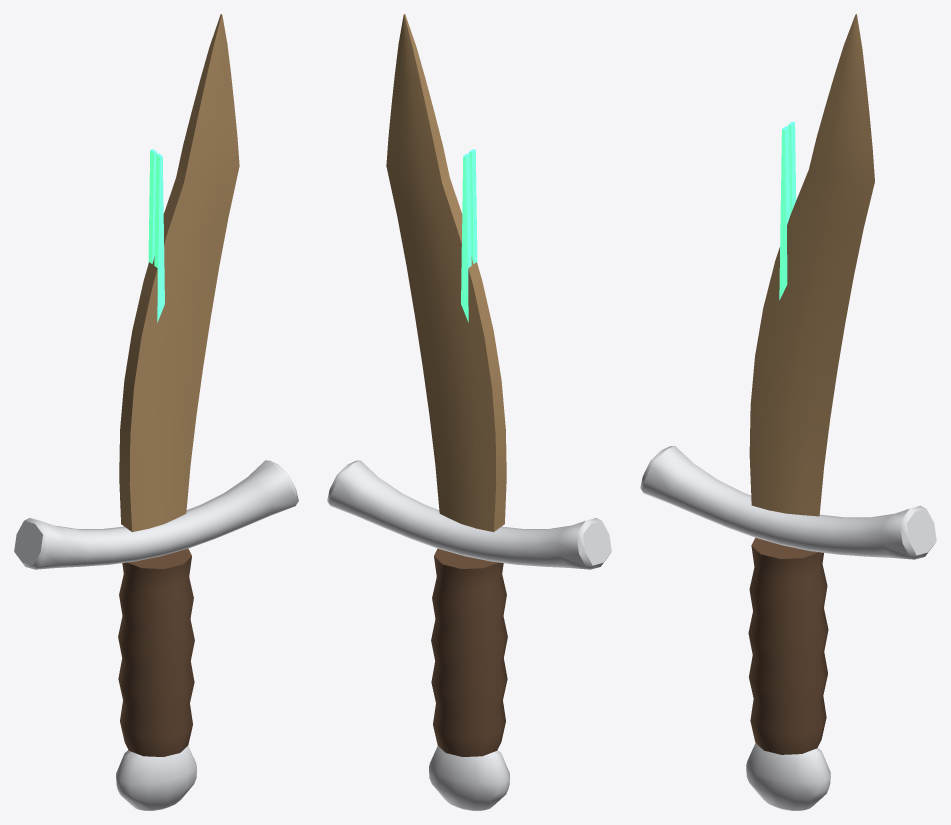
The model's file is depth_rootfang_skinner.glb.
The picture shows the model from 3 angles, left to right: view 1: azimuth 30°, elevation 25°; view 2: azimuth 150°, elevation 25°; view 3: azimuth 330°, elevation 25°; orthographic projection. The views are drawn at different scales.
Visible parts, largest first — view 1: depth_rootfang_skinner; view 2: depth_rootfang_skinner; view 3: depth_rootfang_skinner.
Boxes of the visible parts, x1=… form: depth_rootfang_skinner: x1=14, y1=14, x2=298, y2=810; depth_rootfang_skinner: x1=327, y1=14, x2=611, y2=810; depth_rootfang_skinner: x1=640, y1=14, x2=936, y2=810.
Bounding box in the file's own units: 0.1258 × 0.3482 × 0.0299.
